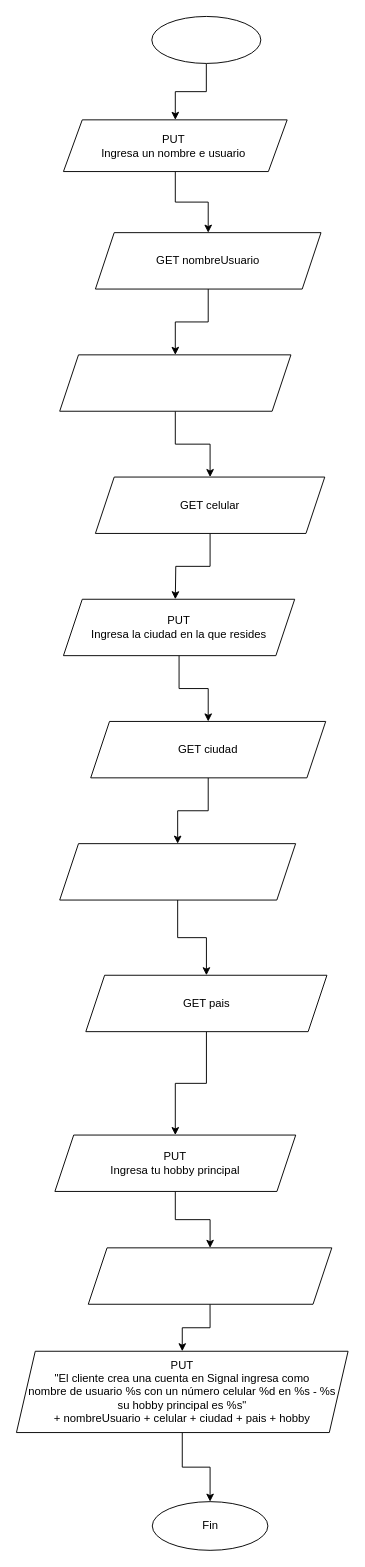
This 365x1567 diagram has some shape labels left out. Each missing label, with the centre of its shape:
GET hobby: (209,1275)
Inicio: (206,39)
PUT Ingresa el país que se encuentra la ciudad: (177,871)
PUT Ingresa tu número de celular: (175,382)
